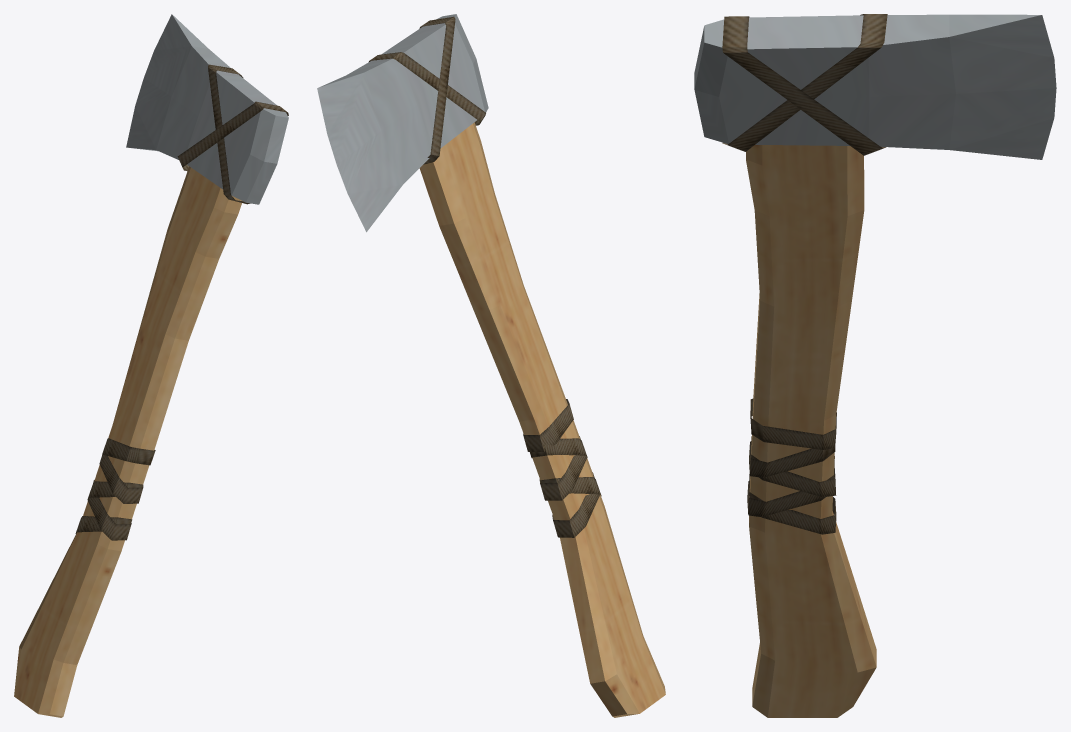
Rendered from Axe.fbx.
The picture shows the model from 3 angles, left to right: view 1: azimuth 30°, elevation 25°; view 2: azimuth 150°, elevation 25°; view 3: azimuth 270°, elevation 25°; orthographic projection. The views are drawn at different scales.
Parts seen in each view (by area): view 1: Axe; view 2: Axe; view 3: Axe.
Boxes of the visible parts, x1,y1,x2,y2 form: Axe: [14, 14, 288, 717]; Axe: [317, 14, 665, 717]; Axe: [694, 14, 1056, 717].
Bounding box in the file's own units: 11.73 × 27.75 × 10.74.
